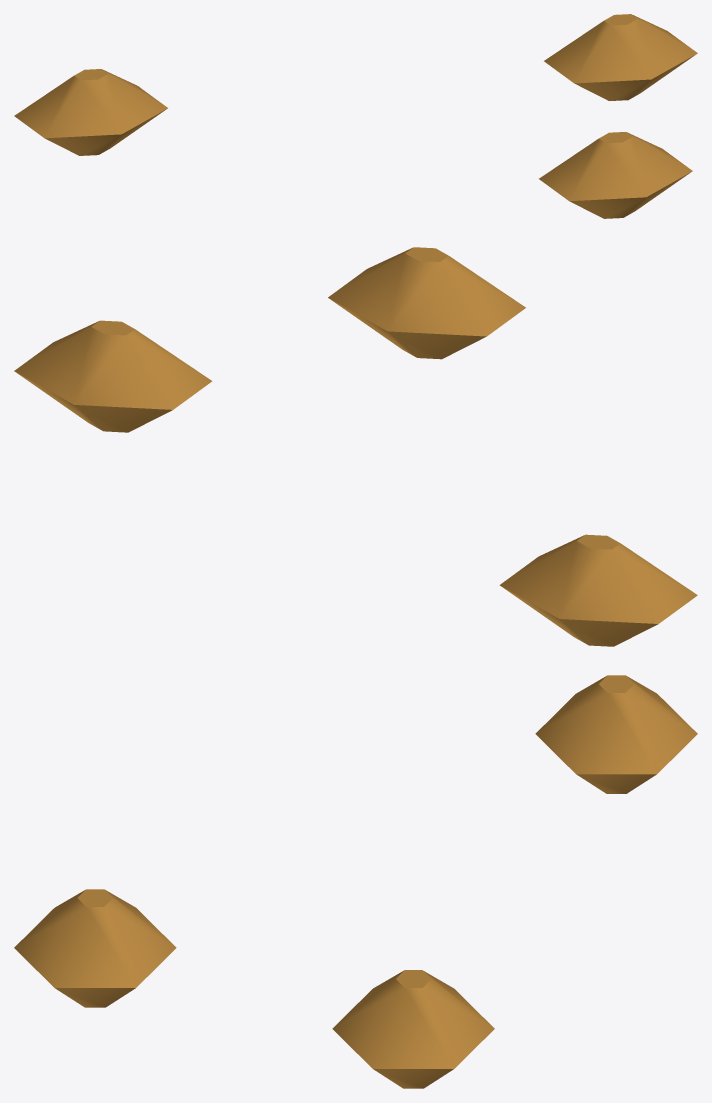
Rendered from crop_carrot_seeded.glb.
The picture shows the model from 3 angles, top to bottom: view 1: azimuth 30°, elevation 25°; view 2: azimuth 150°, elevation 25°; view 3: azimuth 270°, elevation 25°; orthographic projection. The views are drawn at different scales.
Parts seen in each view (by area): view 1: crop_carrot_seeded_seed_0; view 2: crop_carrot_seeded_seed_0; view 3: crop_carrot_seeded_seed_0.
Boxes of the visible parts, x1,y1,x2,y2 form: crop_carrot_seeded_seed_0: (14,14,697,218); crop_carrot_seeded_seed_0: (14,247,697,646); crop_carrot_seeded_seed_0: (14,675,697,1088).
Bounding box in the file's own units: 0.1777 × 0.022 × 0.1368.
